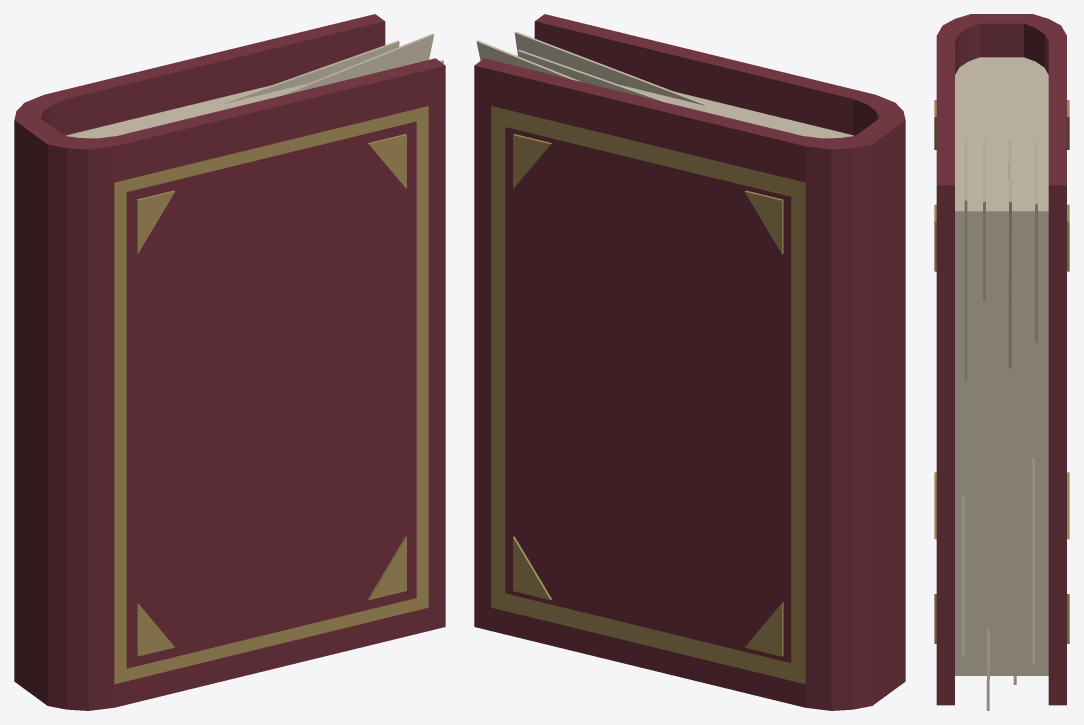
Rendered from book.dae.
The picture shows the model from 3 angles, left to right: view 1: azimuth 30°, elevation 25°; view 2: azimuth 150°, elevation 25°; view 3: azimuth 270°, elevation 25°; orthographic projection. The views are drawn at different scales.
Parts seen in each view (by area): view 1: book; view 2: book; view 3: book.
Boxes of the visible parts, box(x1,y1,x2,y2) form: book: box(14, 14, 445, 710); book: box(474, 14, 905, 710); book: box(934, 14, 1069, 710).
Bounding box in the file's own units: 0.1793 × 0.0558 × 0.24.
